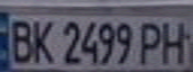2: (57, 17, 81, 65)
4: (78, 17, 100, 65)
9: (112, 19, 139, 65), (97, 18, 118, 65)
B: (3, 16, 36, 64)
H: (154, 17, 193, 64)
K: (27, 16, 57, 65)
P: (136, 18, 166, 64)
